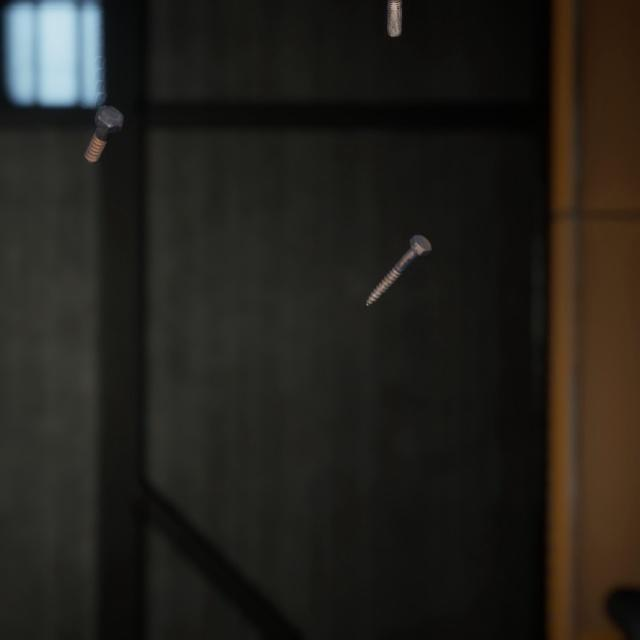bolt: (361, 214, 435, 294), (80, 89, 128, 154)
